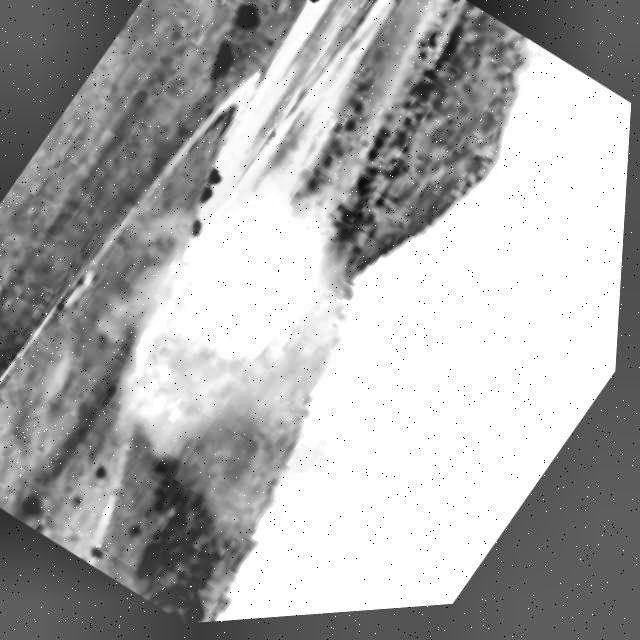Smoke: (0, 58, 587, 638)
